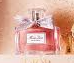dior_miss_dior: (12, 7, 60, 55)
